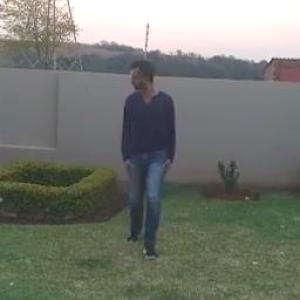follow: (106, 38, 174, 282)
